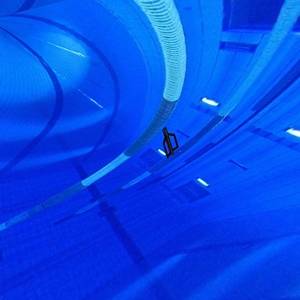submarine: (159, 124, 187, 167)
